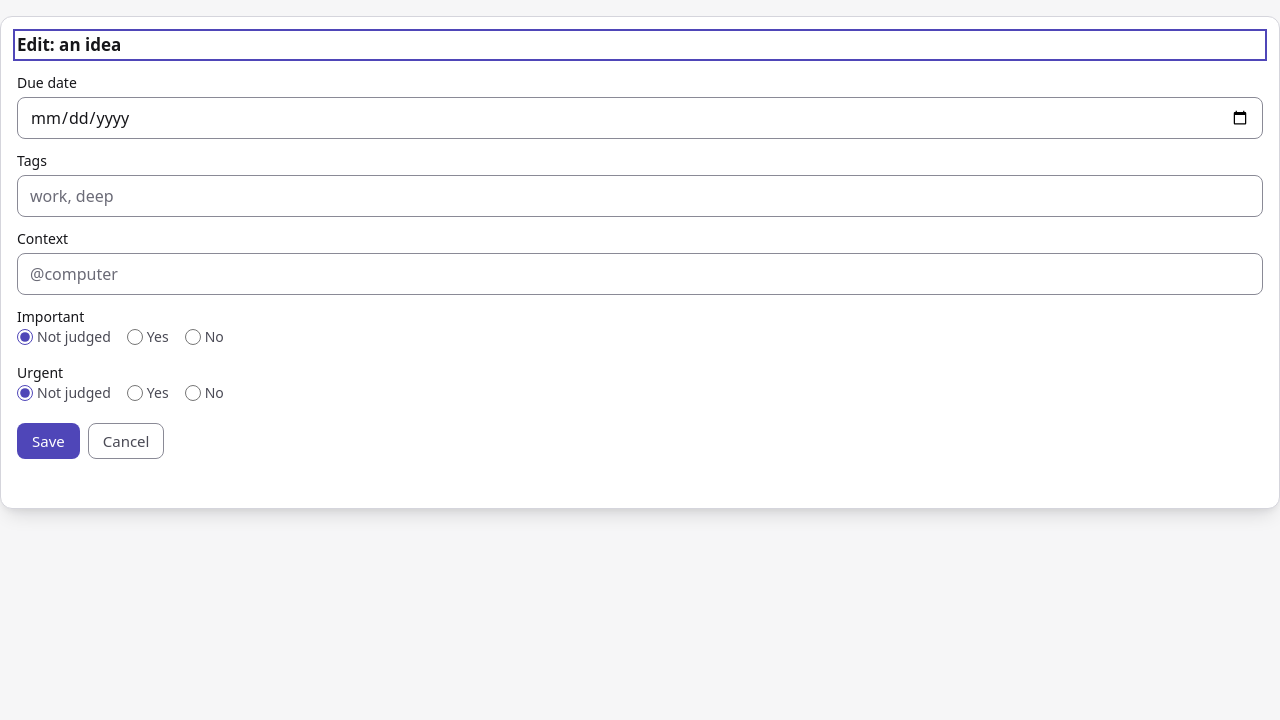
Test: the attributes editor (FR-011 + FR-013) › falls back to one message when the failure carries no field detail
This screenshot has width=1280, height=720.
Click the button "Save". click: (48, 441)
box: [17,423,80,459]
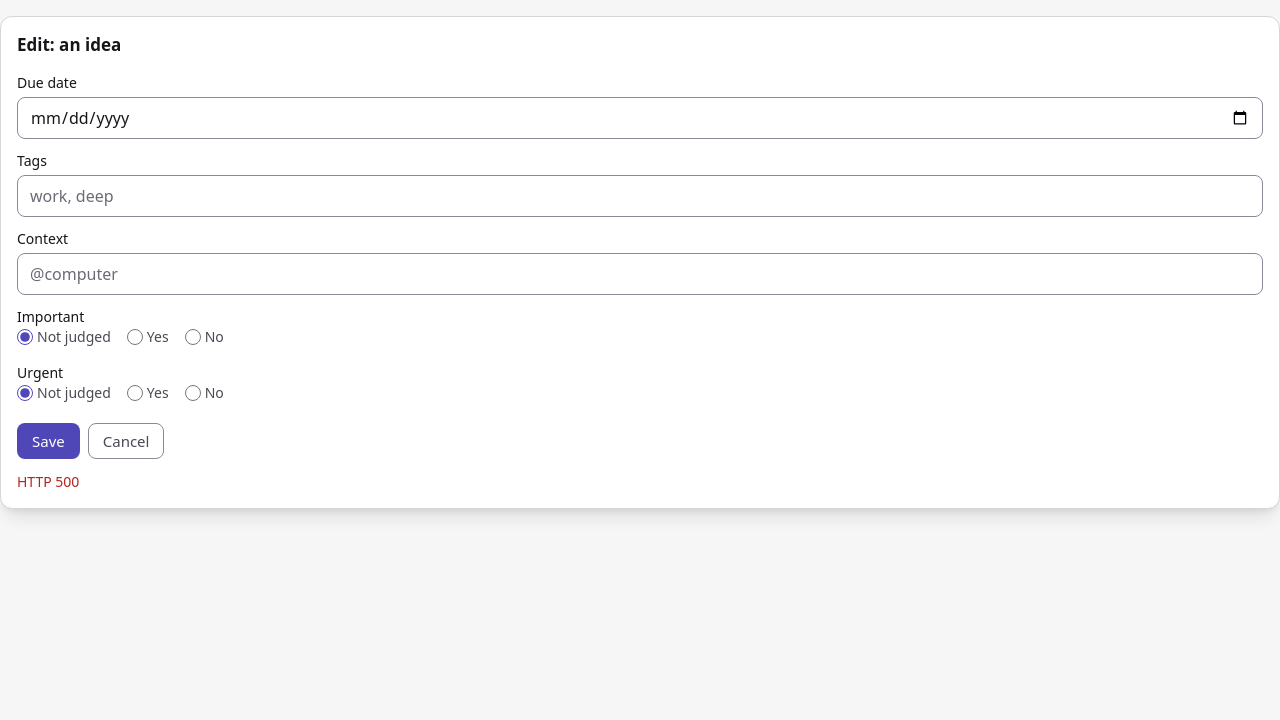
Now the message reads "HTTP 500", box [17,472,79,491]
